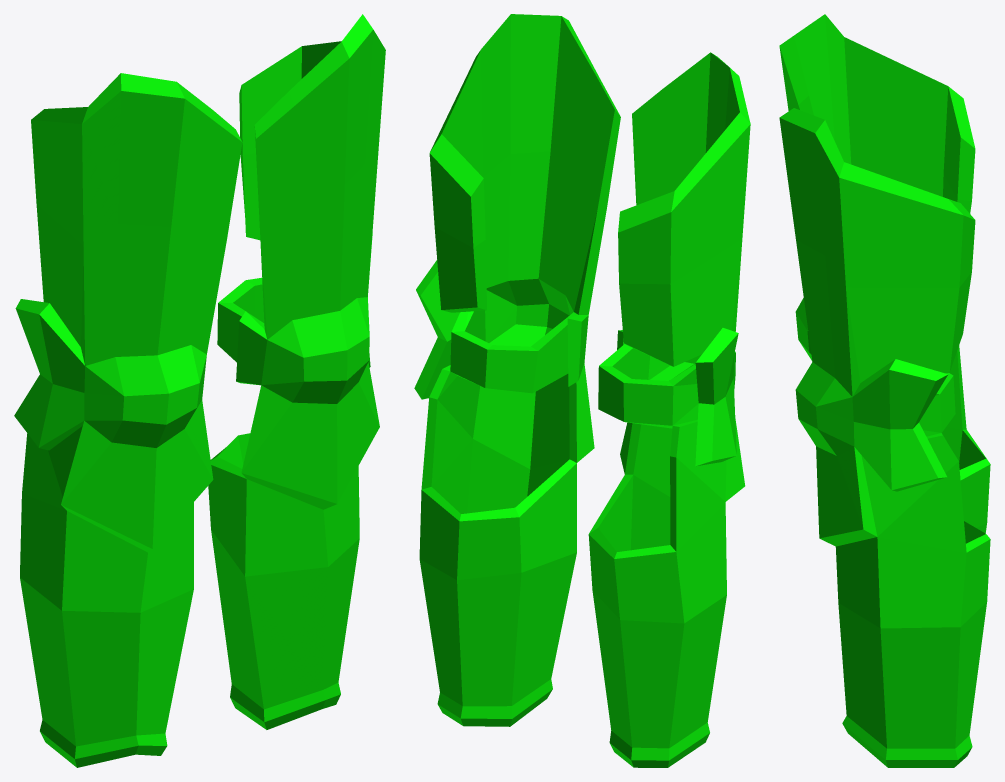
Rendered from SM_Armor_Legs_A_Hanging_Fantasy.fbx.
3 renders of one model, left to right at view 1: azimuth 30°, elevation 25°; view 2: azimuth 150°, elevation 25°; view 3: azimuth 270°, elevation 25°, orthographic. The views are drawn at different scales.
Visible parts, largest first — view 1: armor-legs-a-hanging-fantasy; view 2: armor-legs-a-hanging-fantasy; view 3: armor-legs-a-hanging-fantasy.
Boxes of the visible parts, x1,y1,x2,y2 form: armor-legs-a-hanging-fantasy: (14,14,385,767); armor-legs-a-hanging-fantasy: (414,14,750,767); armor-legs-a-hanging-fantasy: (779,14,990,767).
Bounding box in the file's own units: 0.3886 × 0.8084 × 0.2377.
